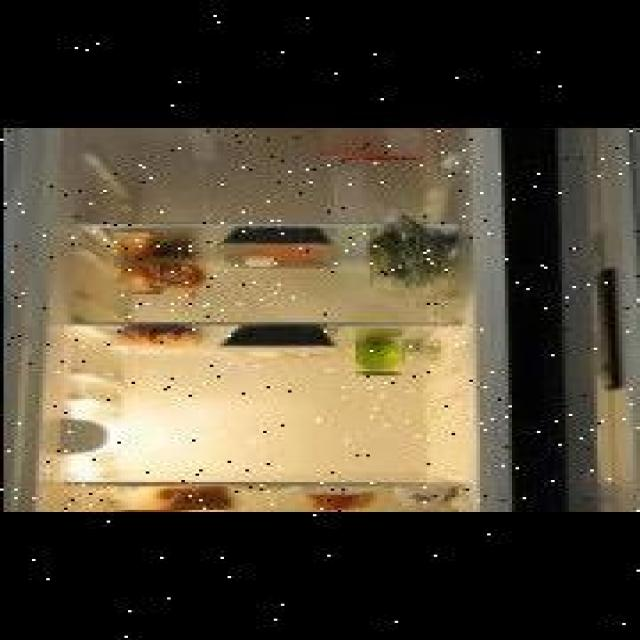apple: (352, 337, 398, 373)
bread: (110, 484, 231, 510)
butter: (324, 128, 419, 160)
cheese: (163, 128, 249, 145)
egg: (320, 491, 356, 504)
onion: (110, 232, 150, 266), (114, 260, 156, 292), (146, 260, 188, 282)
